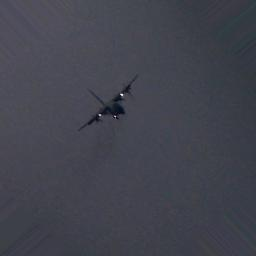Airplane: (74, 72, 140, 134)
